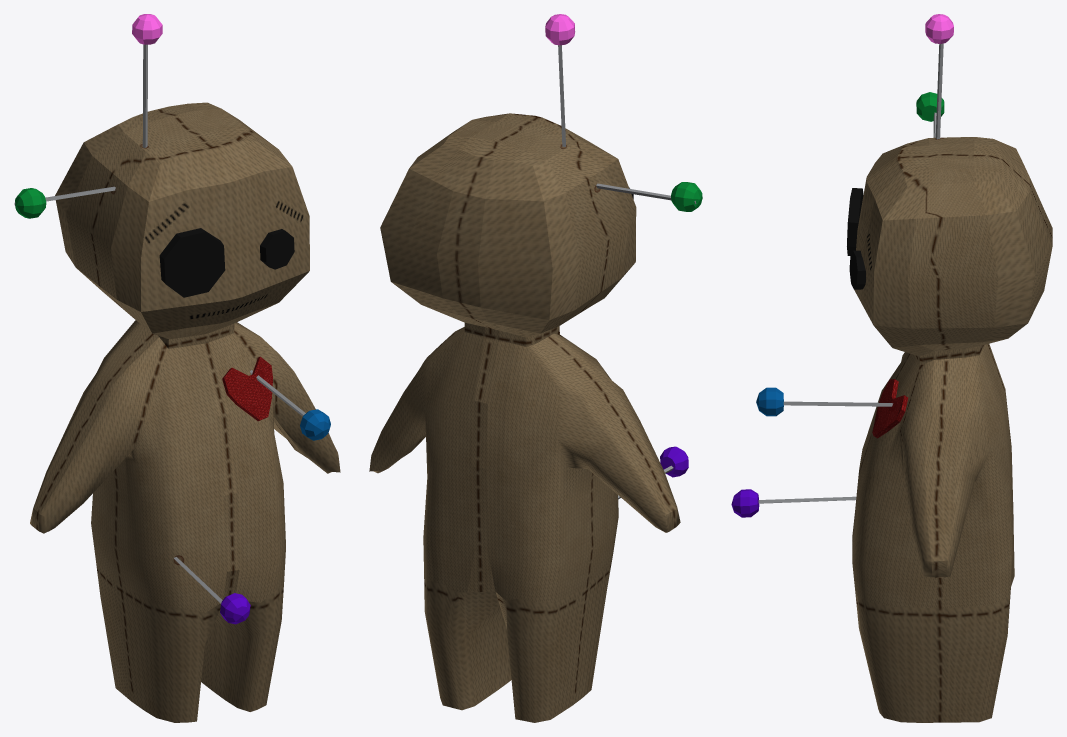
Rendered from voodoo_doll.glb.
3 renders of one model, left to right at view 1: azimuth 30°, elevation 25°; view 2: azimuth 150°, elevation 25°; view 3: azimuth 270°, elevation 25°, orthographic. The views are drawn at different scales.
Parts seen in each view (by area): view 1: polySurface36_StingrayPBS2_0.218, polySurface36_StingrayPBS2_0.239, polySurface36_StingrayPBS2_0.221, polySurface36_StingrayPBS2_0.217, polySurface36_StingrayPBS2_0.238, polySurface36_StingrayPBS2_0.340, polySurface36_StingrayPBS2_0.242, polySurface36_StingrayPBS2_0.223, polySurface36_StingrayPBS2_0.334, polySurface36_StingrayPBS2_0.338, polySurface36_StingrayPBS2_0.337, polySurface36_StingrayPBS2_0.008 (+32 smaller); view 2: polySurface36_StingrayPBS2_0.219, polySurface36_StingrayPBS2_0.240, polySurface36_StingrayPBS2_0.216, polySurface36_StingrayPBS2_0.237, polySurface36_StingrayPBS2_0.220, polySurface36_StingrayPBS2_0.340, polySurface36_StingrayPBS2_0.223, polySurface36_StingrayPBS2_0.344, polySurface36_StingrayPBS2_0.346, polySurface36_StingrayPBS2_0.345, polySurface36_StingrayPBS2_0.241, polySurface36_StingrayPBS2_0.342 (+24 smaller); view 3: polySurface36_StingrayPBS2_0.239, polySurface36_StingrayPBS2_0.240, polySurface36_StingrayPBS2_0.339, polySurface36_StingrayPBS2_0.237, polySurface36_StingrayPBS2_0.238, polySurface36_StingrayPBS2_0.244, polySurface36_StingrayPBS2_0.242, polySurface36_StingrayPBS2_0.241, polySurface36_StingrayPBS2_0.341, polySurface36_StingrayPBS2_0.333, polySurface36_StingrayPBS2_0.247, polySurface36_StingrayPBS2_0.355 (+16 smaller).
Boxes of the visible parts, x1,y1,x2,y2 form: polySurface36_StingrayPBS2_0.218: (125, 344, 226, 612); polySurface36_StingrayPBS2_0.239: (208, 333, 285, 602); polySurface36_StingrayPBS2_0.221: (38, 337, 168, 533); polySurface36_StingrayPBS2_0.217: (132, 591, 220, 722); polySurface36_StingrayPBS2_0.238: (218, 583, 283, 711); polySurface36_StingrayPBS2_0.340: (66, 156, 127, 299); polySurface36_StingrayPBS2_0.242: (234, 323, 340, 473); polySurface36_StingrayPBS2_0.223: (34, 324, 158, 513); polySurface36_StingrayPBS2_0.334: (234, 172, 280, 297); polySurface36_StingrayPBS2_0.338: (141, 190, 186, 311); polySurface36_StingrayPBS2_0.337: (111, 186, 148, 311); polySurface36_StingrayPBS2_0.008: (164, 232, 225, 297); polySurface36_StingrayPBS2_0.219: (486, 340, 590, 602); polySurface36_StingrayPBS2_0.240: (423, 332, 484, 592); polySurface36_StingrayPBS2_0.216: (496, 588, 583, 722); polySurface36_StingrayPBS2_0.237: (424, 574, 502, 710); polySurface36_StingrayPBS2_0.220: (526, 344, 668, 532); polySurface36_StingrayPBS2_0.340: (565, 169, 629, 309); polySurface36_StingrayPBS2_0.223: (536, 334, 676, 514); polySurface36_StingrayPBS2_0.344: (437, 191, 485, 307); polySurface36_StingrayPBS2_0.346: (514, 200, 552, 320); polySurface36_StingrayPBS2_0.345: (478, 199, 515, 313); polySurface36_StingrayPBS2_0.241: (369, 330, 464, 473); polySurface36_StingrayPBS2_0.342: (380, 169, 430, 289); polySurface36_StingrayPBS2_0.239: (852, 354, 919, 607); polySurface36_StingrayPBS2_0.240: (947, 344, 1014, 608); polySurface36_StingrayPBS2_0.339: (907, 215, 998, 328); polySurface36_StingrayPBS2_0.237: (943, 588, 1010, 722); polySurface36_StingrayPBS2_0.238: (855, 596, 920, 722); polySurface36_StingrayPBS2_0.244: (925, 357, 967, 561); polySurface36_StingrayPBS2_0.242: (899, 360, 933, 577); polySurface36_StingrayPBS2_0.241: (946, 355, 991, 576); polySurface36_StingrayPBS2_0.341: (987, 211, 1034, 327); polySurface36_StingrayPBS2_0.333: (873, 218, 915, 328); polySurface36_StingrayPBS2_0.247: (918, 607, 946, 722); polySurface36_StingrayPBS2_0.355: (916, 182, 986, 218).
Size of the model in its own units: 0.7272 by 1.49 by 0.6567.
1 material, 1 textured.
